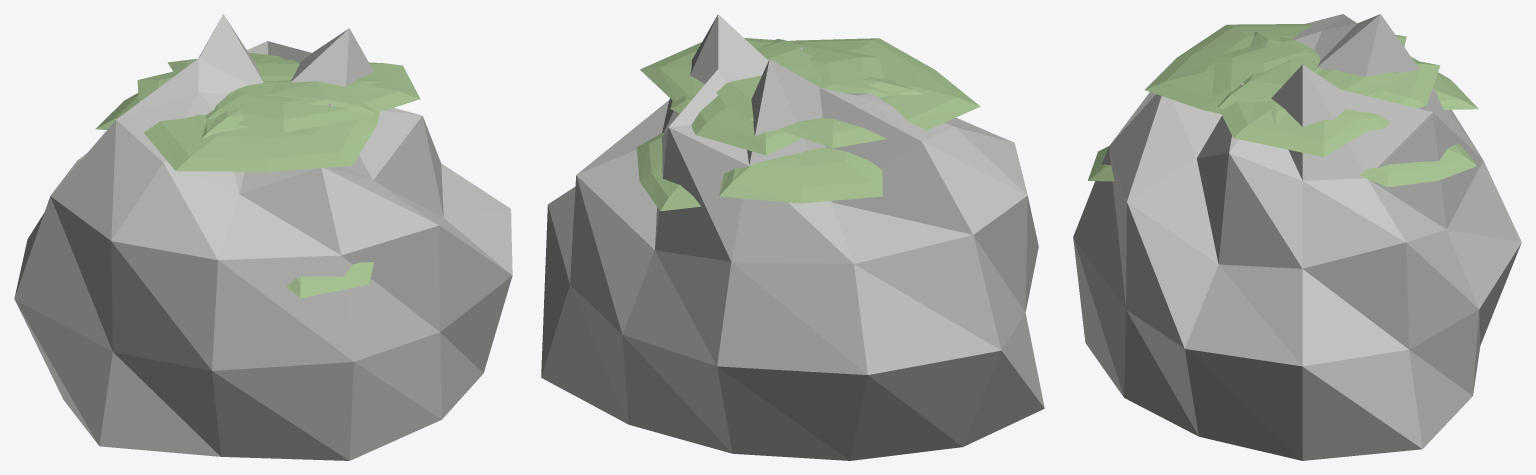
File: boulder_mossy.glb
The picture shows the model from 3 angles, left to right: view 1: azimuth 30°, elevation 25°; view 2: azimuth 150°, elevation 25°; view 3: azimuth 270°, elevation 25°; orthographic projection. The views are drawn at different scales.
Visible parts, largest first — view 1: boulder-mossy; view 2: boulder-mossy; view 3: boulder-mossy.
Part boxes in pixels (<box>): boulder-mossy: <box>14,14,512,460</box>; boulder-mossy: <box>541,14,1044,460</box>; boulder-mossy: <box>1073,14,1521,460</box>.
Bounding box in the file's own units: 1.57 × 1.08 × 1.3.
